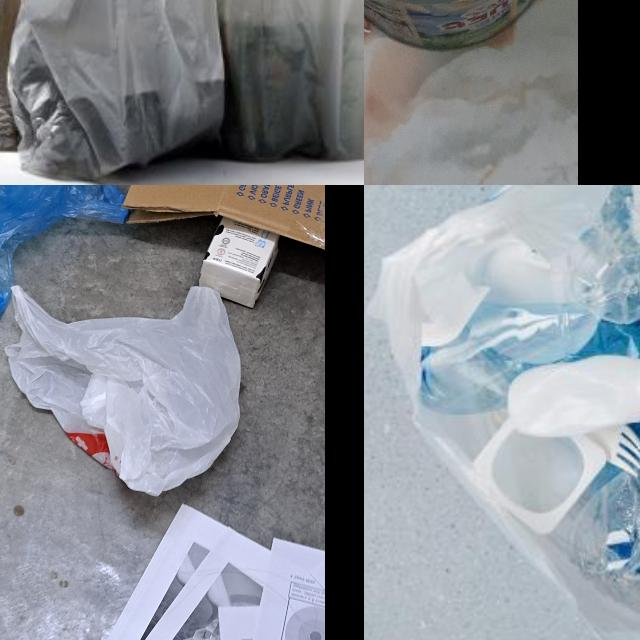caixinha: (194, 220, 284, 308)
lata: (364, 0, 562, 55)
papel: (93, 503, 324, 640)
papelão: (121, 185, 325, 257)
sacola plástica: (365, 185, 640, 640), (3, 286, 245, 498), (8, 0, 242, 184), (197, 0, 364, 171), (0, 185, 129, 324)
